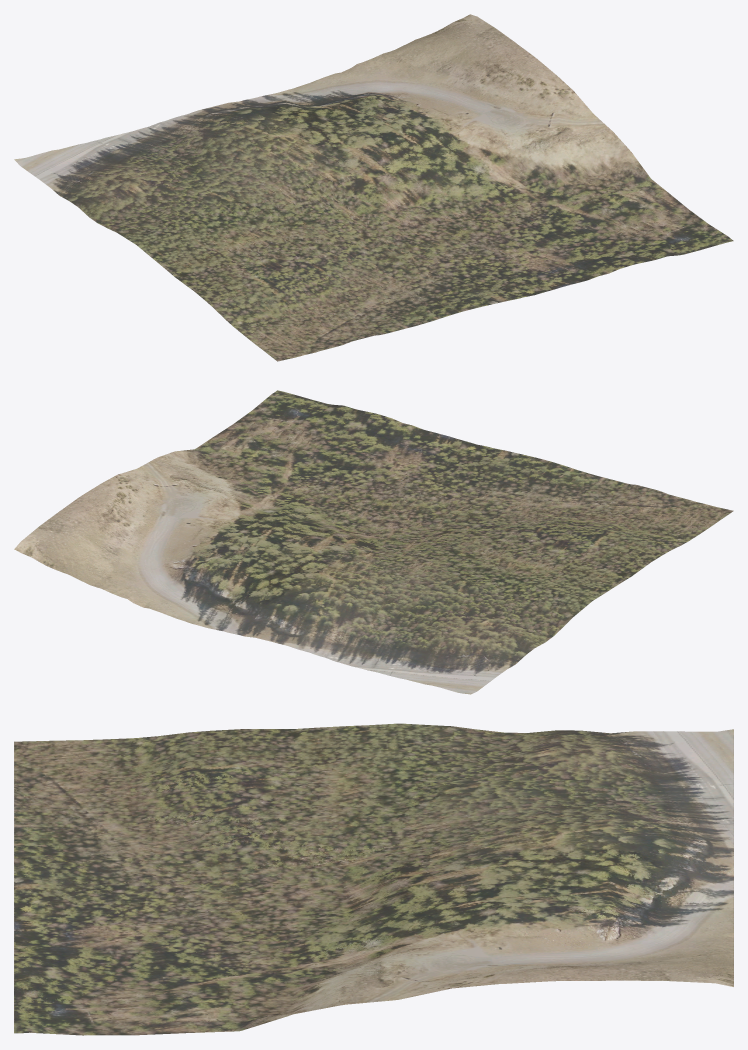
File: CM_Terrain_24493326_6814469.fbx
The picture shows the model from 3 angles, top to bottom: view 1: azimuth 30°, elevation 25°; view 2: azimuth 150°, elevation 25°; view 3: azimuth 270°, elevation 25°; orthographic projection. The views are drawn at different scales.
Parts seen in each view (by area): view 1: CM_Terrain_24493326_6814469_LOD0; view 2: CM_Terrain_24493326_6814469_LOD0; view 3: CM_Terrain_24493326_6814469_LOD0.
Boxes of the visible parts, box(x1,y1,x2,y2) form: CM_Terrain_24493326_6814469_LOD0: box(14, 14, 733, 361); CM_Terrain_24493326_6814469_LOD0: box(14, 390, 733, 694); CM_Terrain_24493326_6814469_LOD0: box(14, 723, 733, 1035).
Size of what is drawn, in the model's own units: 205 by 20.64 by 205.
